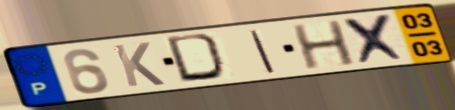6: (61, 46, 111, 96)
D: (162, 31, 231, 84)
H: (289, 18, 359, 72)
I: (247, 29, 279, 75)
K: (110, 41, 169, 89)
X: (340, 11, 413, 67)
